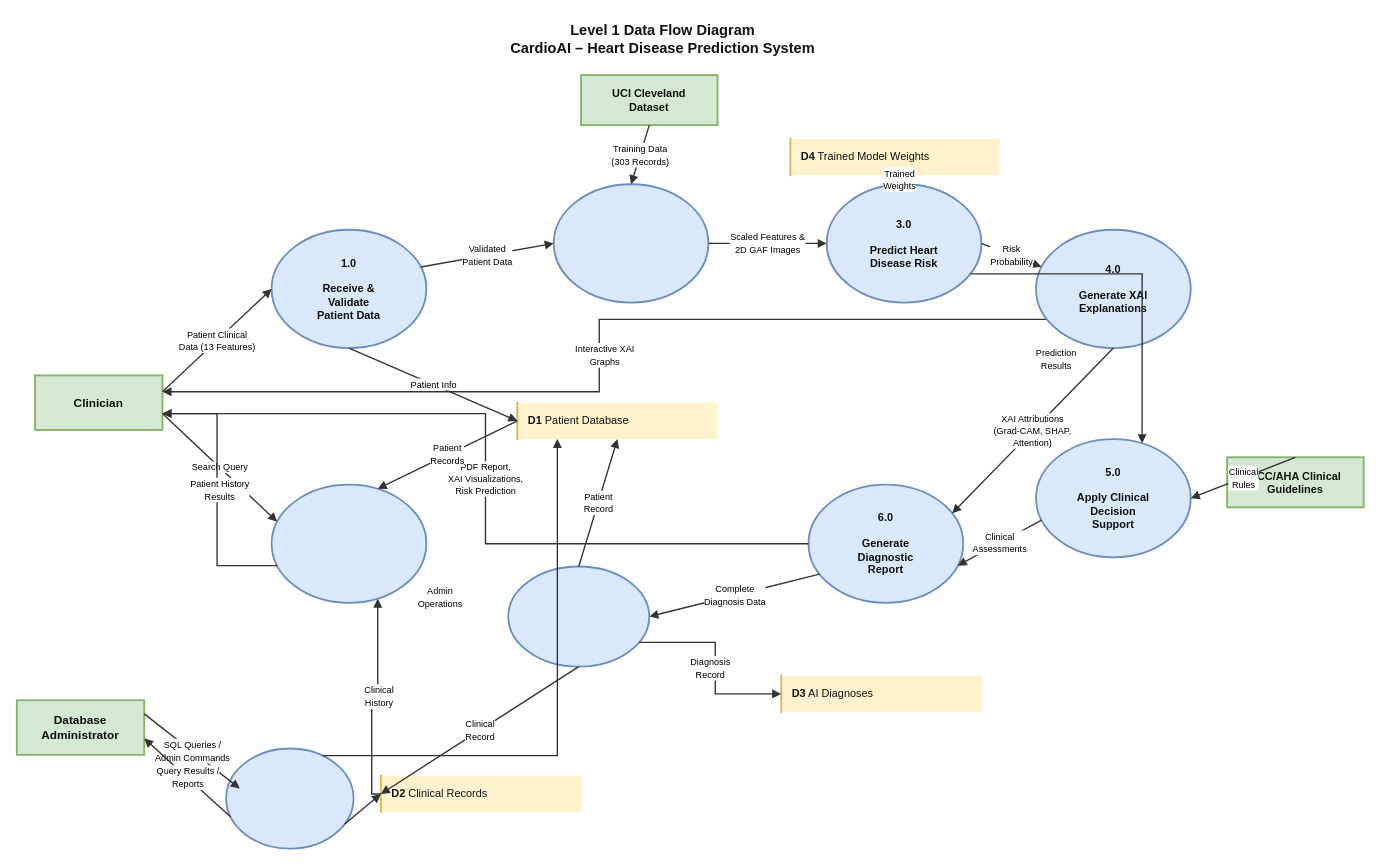
This 1380x865 diagram has some shape labels left out. The centre of each missing label's shape, as x and y in pixels:
2.0 Preprocess Clinical Features: (630,243)
7.0 Store Patient Records: (578,616)
8.0 Search Patient History: (348,543)
9.0 Manage Database: (289,798)
